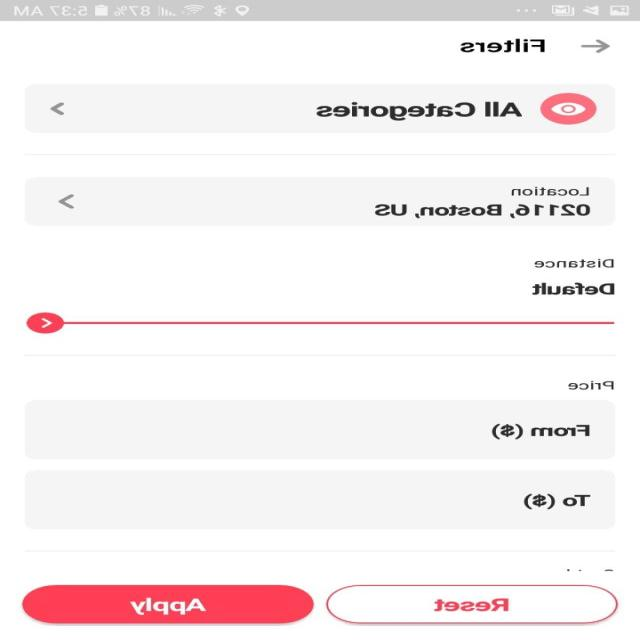Icon: (540, 92, 598, 123), (26, 311, 66, 332), (582, 39, 612, 52), (60, 193, 76, 208), (51, 100, 68, 114)
Text: (318, 100, 523, 120), (377, 203, 593, 218), (492, 422, 592, 439), (462, 37, 548, 52), (533, 282, 618, 296), (524, 492, 593, 509), (512, 186, 591, 196), (536, 258, 615, 267), (569, 380, 618, 389)
TextButton: (327, 583, 620, 623), (22, 584, 315, 622)
